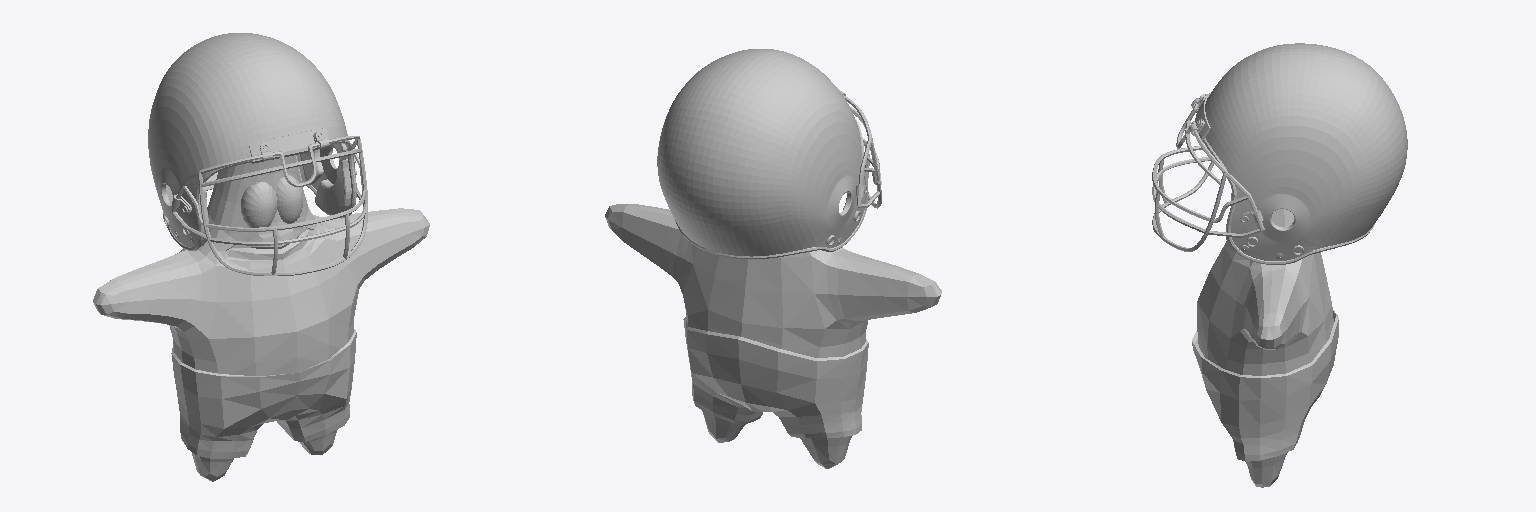
File: patrick.obj
3 renders of one model, left to right at view 1: azimuth 30°, elevation 25°; view 2: azimuth 150°, elevation 25°; view 3: azimuth 270°, elevation 25°, orthographic.
Parts seen in each view (by area): view 1: Patrick, football_helmet; view 2: Patrick, football_helmet; view 3: football_helmet, Patrick.
Boxes of the visible parts, x1,y1,x2,y2 form: Patrick: [93, 155, 429, 481]; football_helmet: [148, 33, 367, 275]; Patrick: [605, 204, 941, 468]; football_helmet: [657, 49, 881, 258]; football_helmet: [1152, 43, 1407, 264]; Patrick: [1192, 188, 1338, 487].
Size of the model in its own units: 2.14 by 2.51 by 1.42.